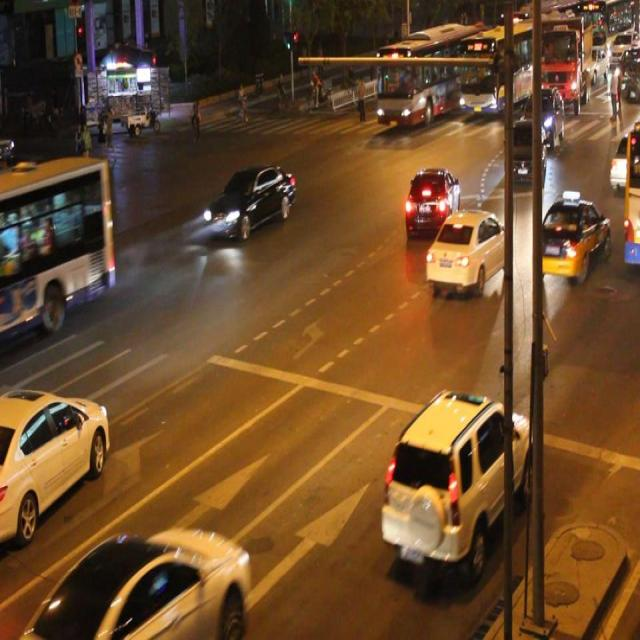car: (28, 524, 252, 640), (382, 389, 534, 558), (1, 386, 108, 538), (424, 210, 510, 288), (206, 165, 296, 239), (530, 199, 609, 279), (403, 167, 460, 240), (502, 120, 544, 187)
van: (1, 155, 115, 327)
